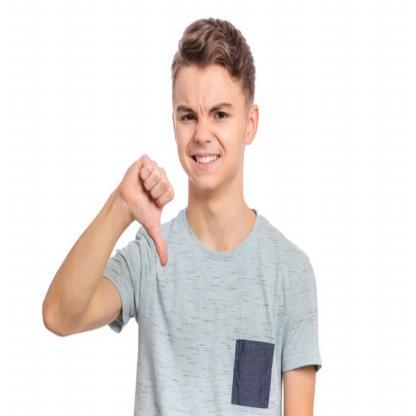thumb_down: (114, 151, 176, 266)
